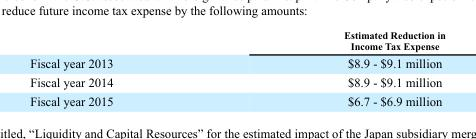table: (29, 29, 444, 107)
table column: (227, 29, 444, 107), (29, 29, 227, 107)
table column header: (29, 29, 444, 53)
table row: (29, 29, 444, 53), (29, 53, 444, 72), (29, 72, 444, 91), (29, 91, 444, 107)
